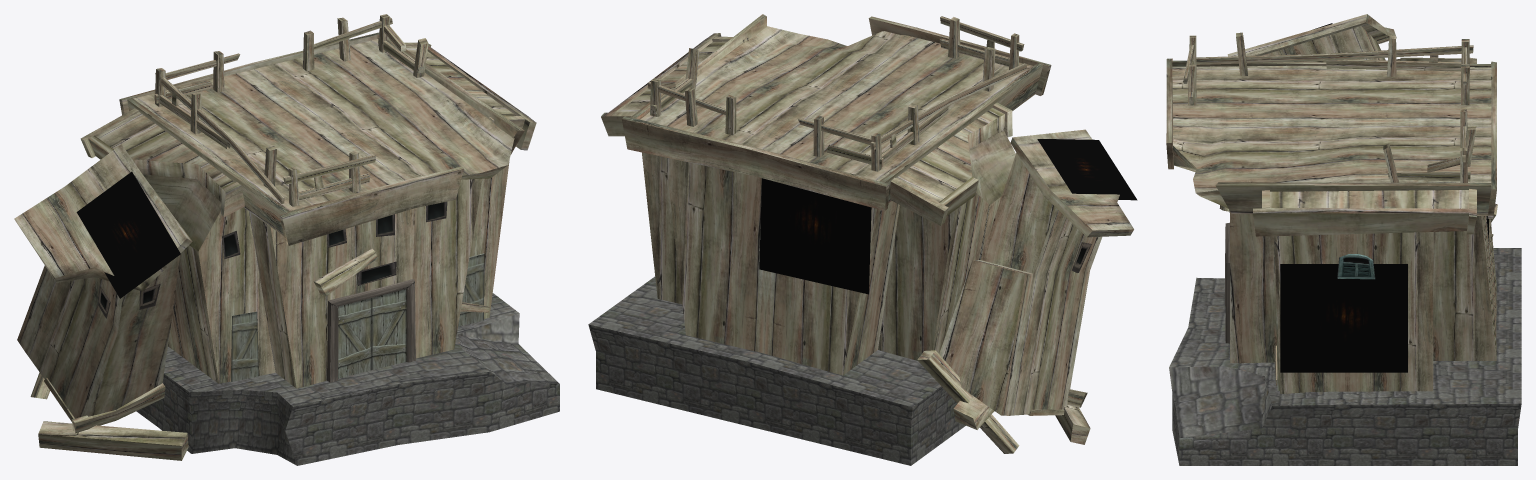
Rendered from pir_m_bld_shn_houseA_destroyed.fbx.
The picture shows the model from 3 angles, left to right: view 1: azimuth 30°, elevation 25°; view 2: azimuth 150°, elevation 25°; view 3: azimuth 270°, elevation 25°; orthographic projection.
Visible parts, largest first — view 1: building_main, buildingbase_geo8, polySurface410, polySurface404, group7, polySurface405, hole_0, polySurface409, polySurface406, door_right, door_left, doorway1 (+12 smaller); view 2: building_main, buildingbase_geo8, polySurface410, polySurface404, group7, hole_2, polySurface405, polySurface409, hole_0, balconyfloor, plank4, balconyfloorall_all (+6 smaller); view 3: buildingbase_geo8, polySurface410, building_main, hole_1, balconyfloorall_all, group7, pPlane9, railing105_1, polySurface405, polySurface404, railing125_1, window (+3 smaller).
Part boxes in pixels (bbox=[...]): building_main: bbox=[143, 162, 509, 388]; buildingbase_geo8: bbox=[136, 293, 559, 465]; polySurface410: bbox=[133, 39, 514, 210]; polySurface404: bbox=[17, 255, 179, 418]; group7: bbox=[119, 32, 524, 245]; polySurface405: bbox=[14, 144, 192, 291]; hole_0: bbox=[76, 171, 180, 298]; polySurface409: bbox=[94, 112, 234, 202]; polySurface406: bbox=[38, 421, 188, 460]; door_right: bbox=[371, 292, 406, 369]; door_left: bbox=[338, 298, 371, 378]; doorway1: bbox=[327, 279, 415, 382]; building_main: bbox=[642, 130, 1015, 375]; buildingbase_geo8: bbox=[588, 276, 965, 465]; polySurface410: bbox=[640, 26, 1033, 180]; polySurface404: bbox=[939, 152, 1102, 415]; group7: bbox=[622, 14, 1051, 210]; hole_2: bbox=[759, 178, 871, 294]; polySurface405: bbox=[1010, 129, 1133, 237]; polySurface409: bbox=[896, 108, 1004, 202]; hole_0: bbox=[1037, 139, 1137, 200]; balconyfloor: bbox=[890, 102, 1012, 226]; plank4: bbox=[917, 350, 1019, 453]; balconyfloorall_all: bbox=[601, 33, 748, 136]; buildingbase_geo8: bbox=[1169, 248, 1521, 465]; polySurface410: bbox=[1172, 65, 1491, 208]; building_main: bbox=[1230, 211, 1496, 393]; hole_1: bbox=[1280, 264, 1407, 372]; balconyfloorall_all: bbox=[1253, 189, 1476, 236]; group7: bbox=[1166, 58, 1496, 218]; pPlane9: bbox=[1270, 190, 1468, 208]; railing105_1: bbox=[1196, 45, 1473, 64]; polySurface405: bbox=[1227, 14, 1396, 56]; polySurface404: bbox=[1262, 26, 1385, 62]; railing125_1: bbox=[1326, 59, 1461, 71]; window: bbox=[1337, 254, 1375, 279].
Bounding box in the file's own units: 6351 × 4130 × 4283.
Materials: 3 (3 with a texture image).
